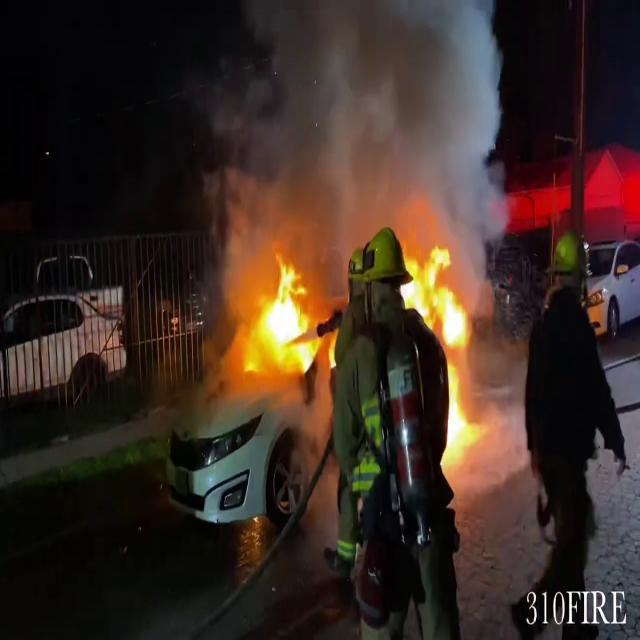Fire: (406, 238, 479, 458), (239, 254, 325, 380)
Smoke: (185, 0, 510, 252)
